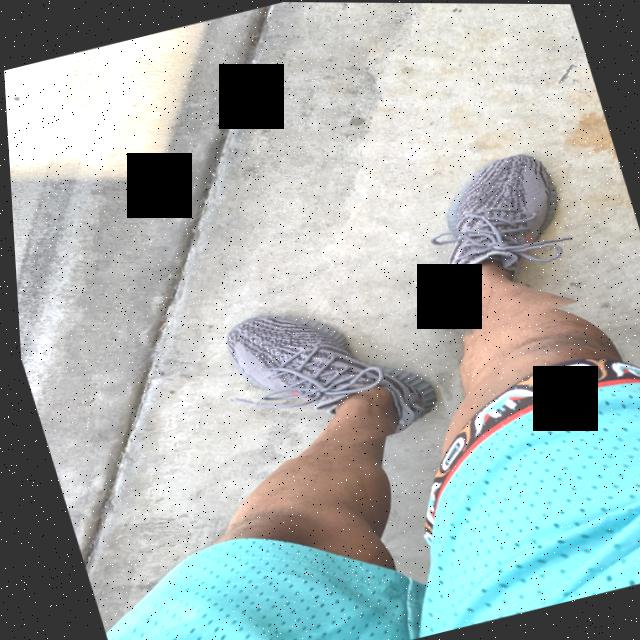shoe: (347, 141, 609, 355), (197, 271, 446, 470)
